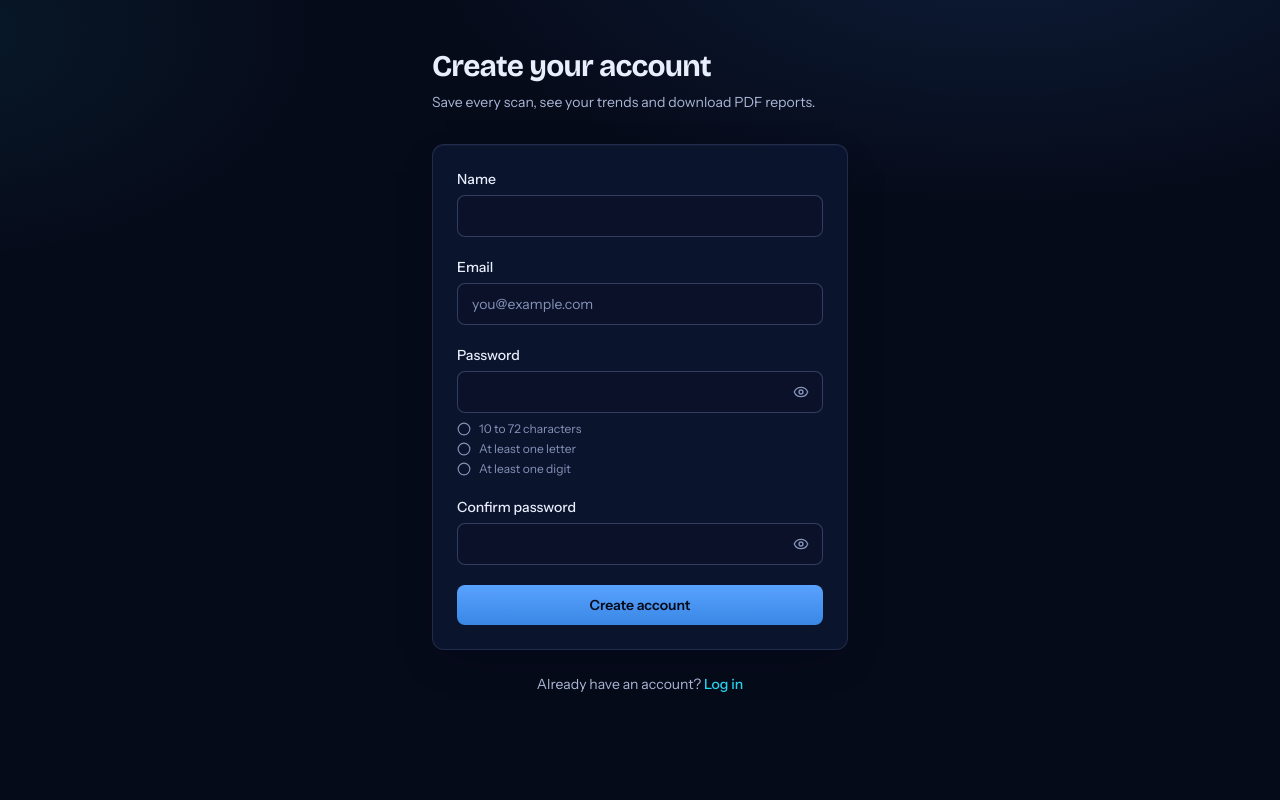
Test case: RegisterPage › maps API validation details onto fields (e.g. duplicate email)
Type "Ada Lovelace" into the field labelled "Name" at (640, 216), box [457,195,823,237]
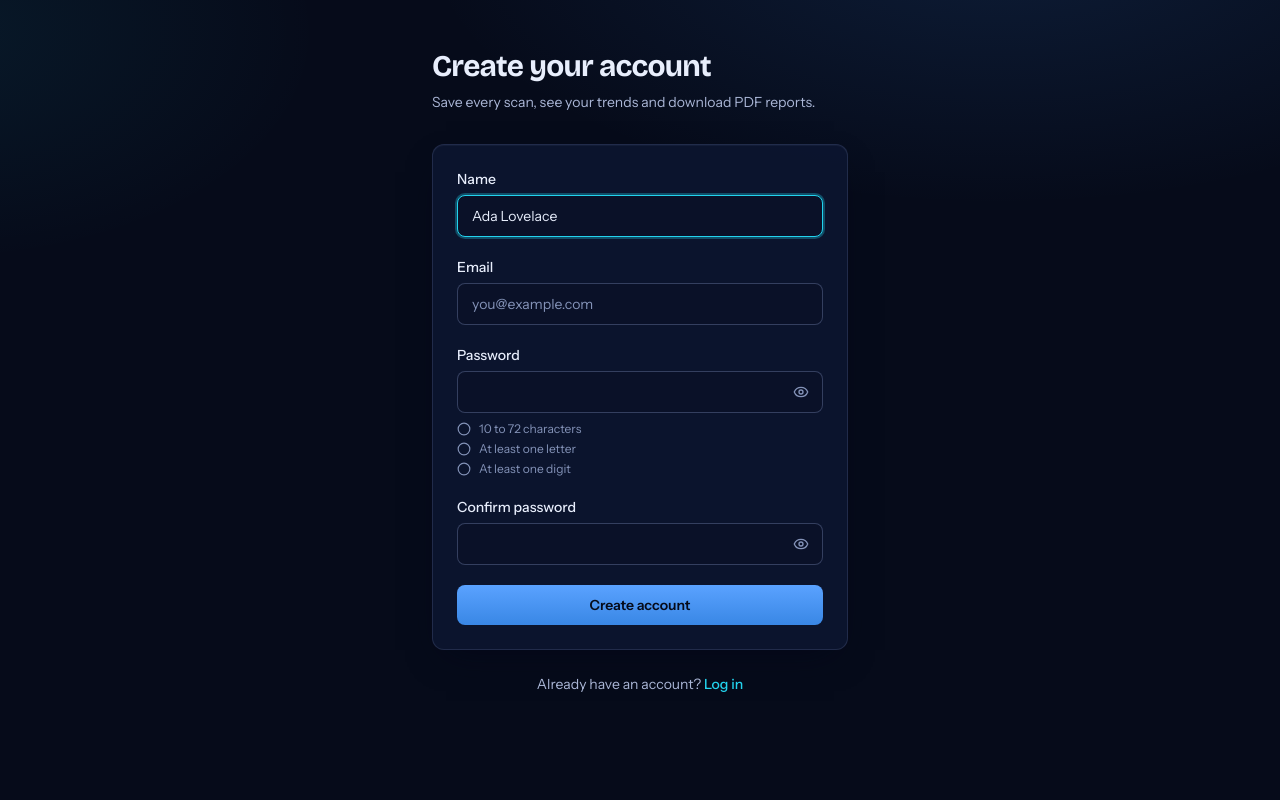
Type "ada@example.com" into the field labelled "Email" at (640, 304), box [457,283,823,325]
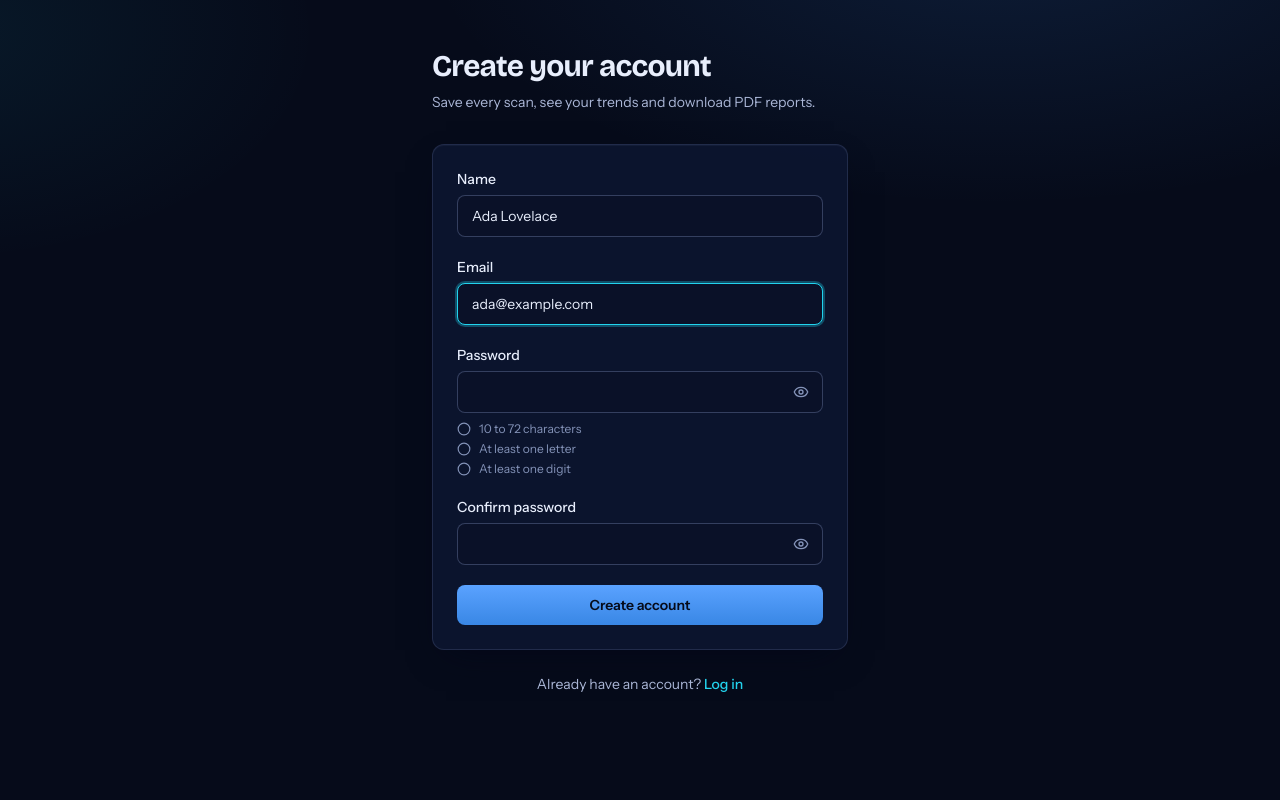
Type "a-strong-pass-1" into the password field labelled "Password" at (640, 392), box [457,371,823,413]
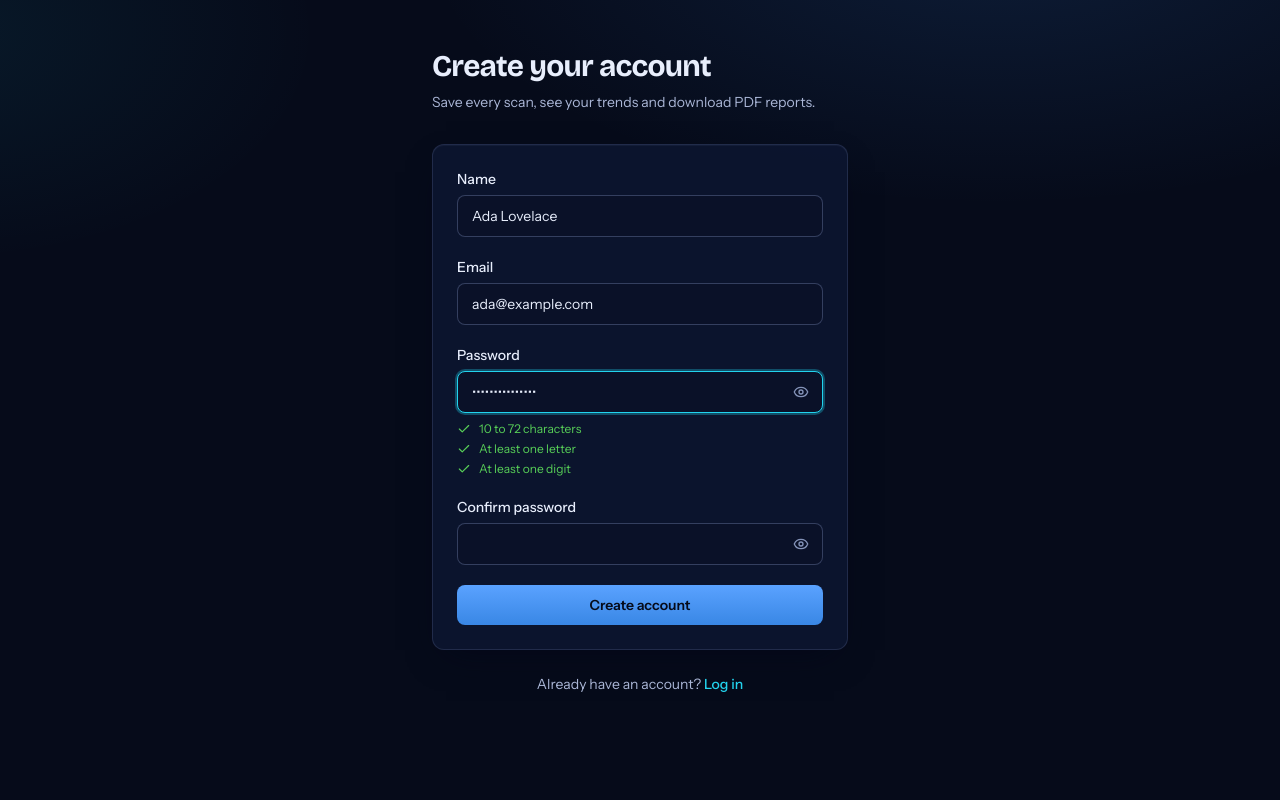
Type "a-strong-pass-1" into the password field labelled "Confirm password" at (640, 544), box [457,523,823,565]
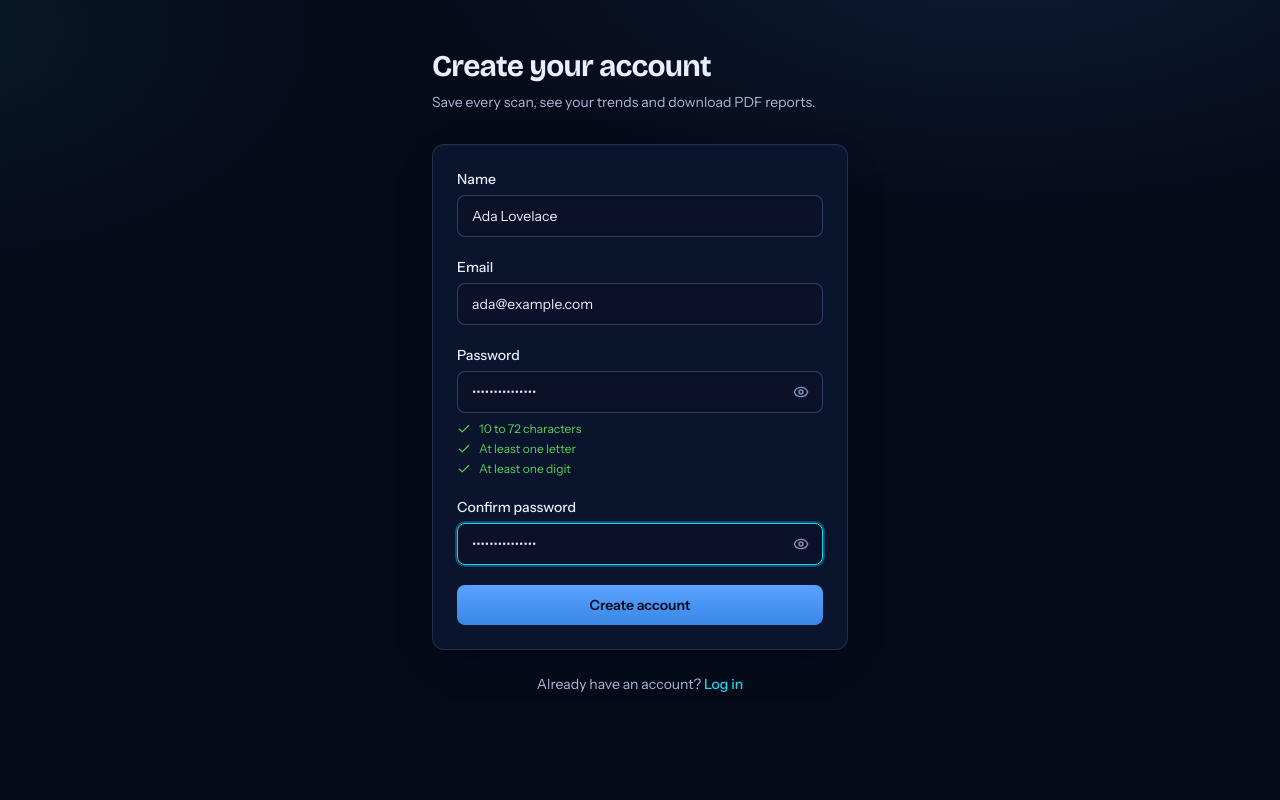
Click the button "Create account" at (640, 605), box [457,585,823,625]
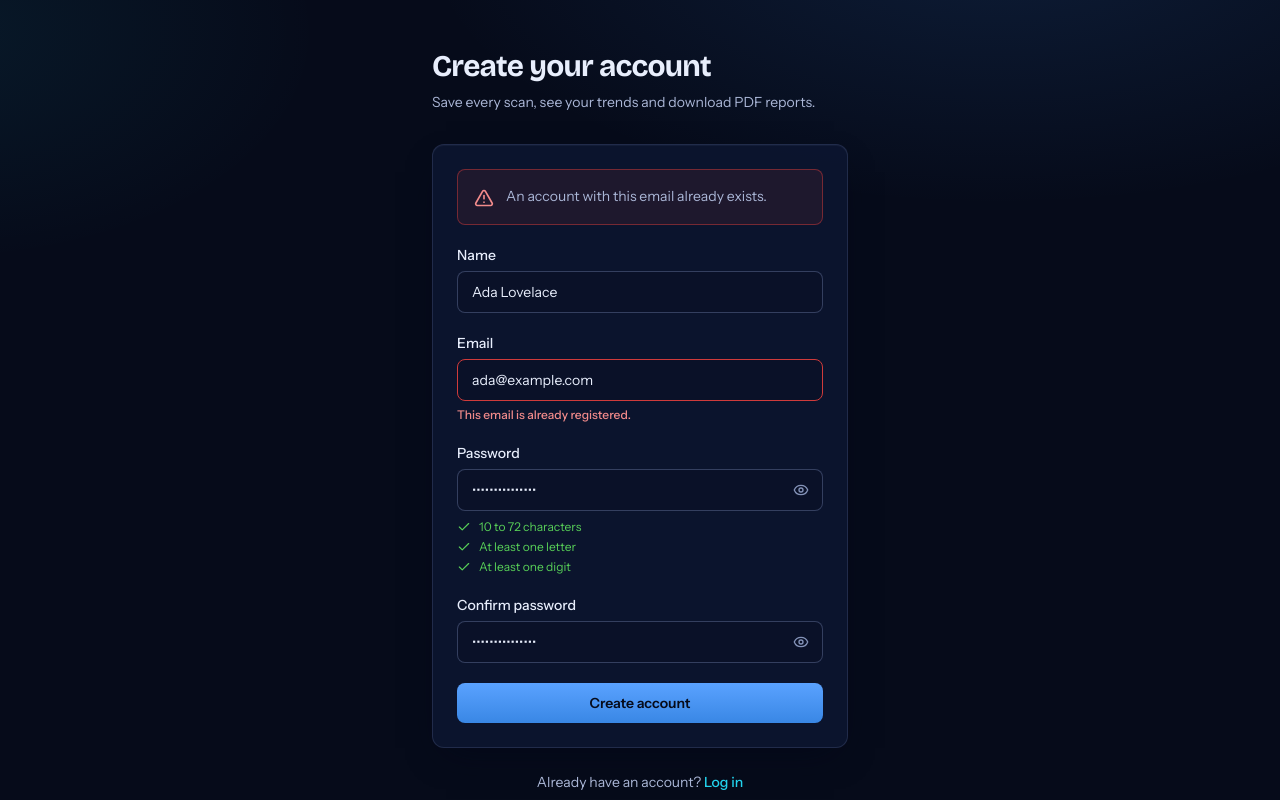
Expected: the text "An account with this email already exists." is shown, [506,186,806,206]
Expected: the text "This email is already registered." is shown, [457,407,631,422]
